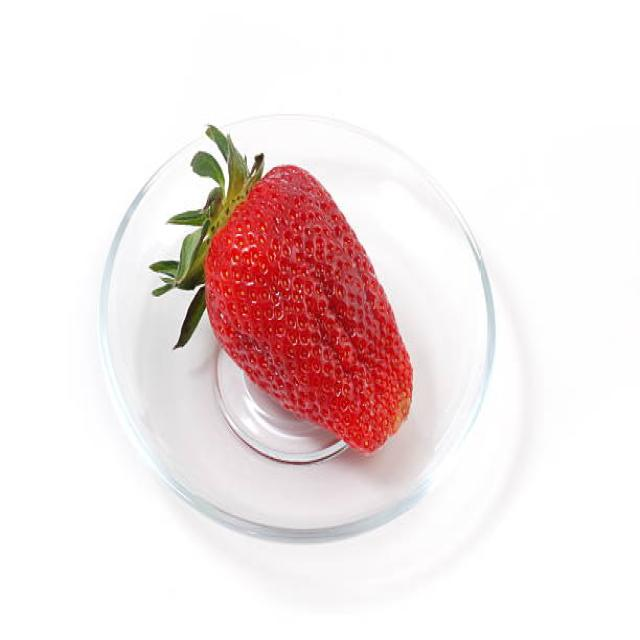Healthy Fruit: (206, 164, 413, 453)
